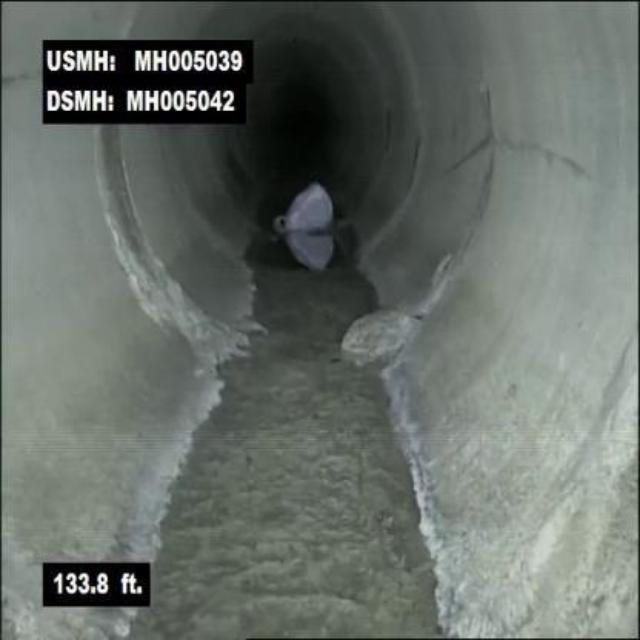Crack: (497, 125, 603, 183)
Debris: (332, 302, 423, 368)
